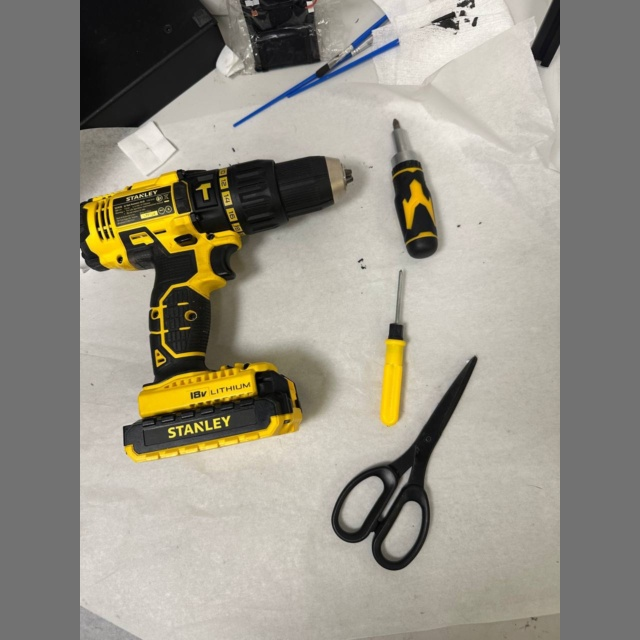drill: (80, 156, 346, 462)
scissor: (332, 356, 477, 570)
screwdriver: (391, 118, 437, 258), (380, 270, 406, 426)
